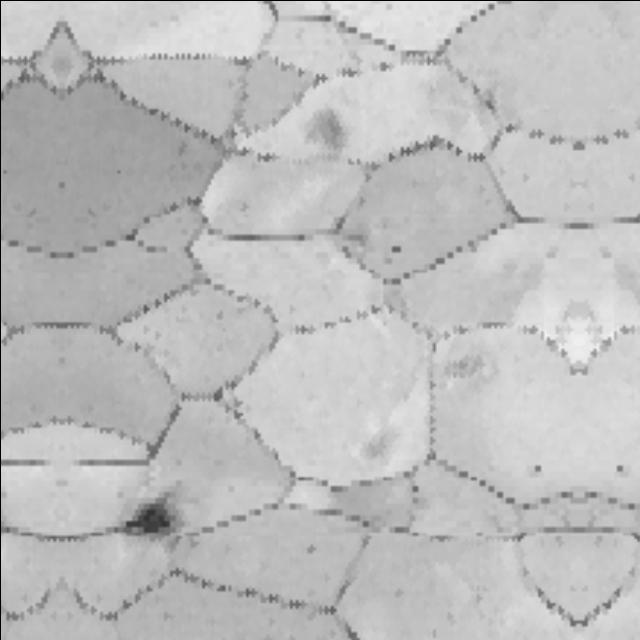good_void: (119, 475, 194, 553), (288, 92, 360, 162), (300, 540, 322, 560), (404, 478, 424, 499), (388, 238, 405, 255), (532, 458, 542, 475), (616, 458, 626, 475)
